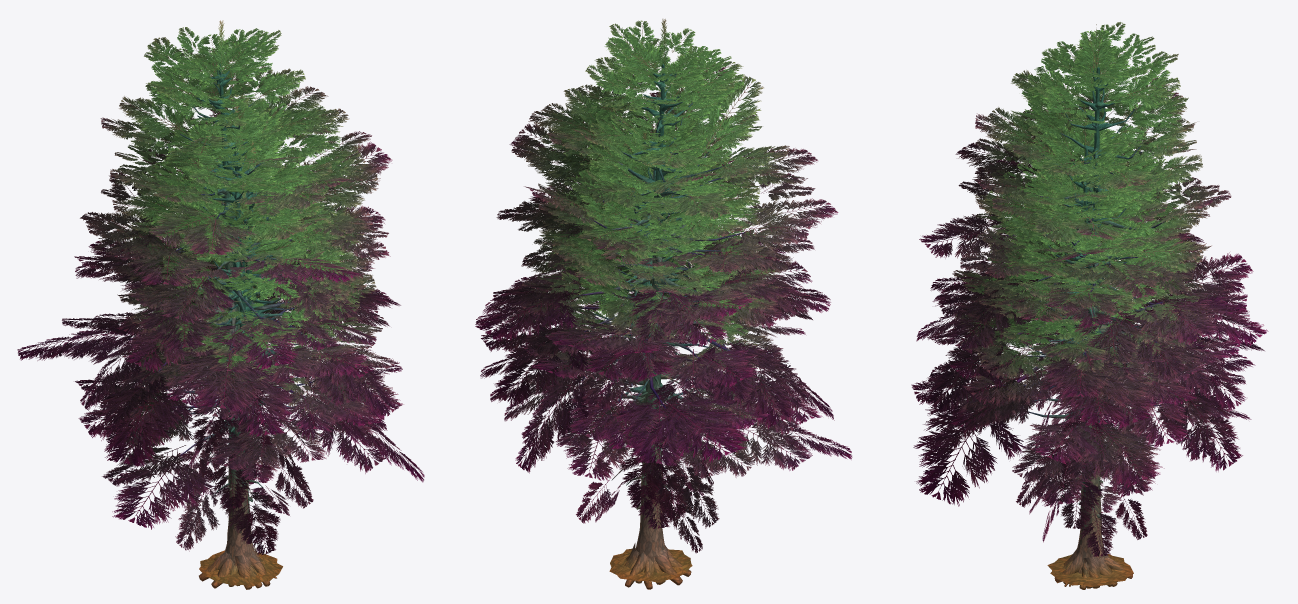
File: hero-pine-mid.glb
3 views of the same model, side by side, from view 1: azimuth 30°, elevation 25°; view 2: azimuth 150°, elevation 25°; view 3: azimuth 270°, elevation 25° (orthographic). The views are drawn at different scales.
Parts seen in each view (by area): view 1: v2-leaf, v1-leaf, v0-leaf, v3-leaf, v2-wood, v1-wood, v3-wood, v0-wood; view 2: v2-leaf, v1-leaf, v3-leaf, v0-leaf, v2-wood, v1-wood, v3-wood, v0-wood; view 3: v2-leaf, v3-leaf, v1-leaf, v0-leaf, v2-wood, v1-wood, v3-wood, v0-wood.
Boxes of the visible parts, x1,y1,x2,y2 form: v2-leaf: (17,20,424,508); v1-leaf: (62,94,390,497); v0-leaf: (102,181,402,551); v3-leaf: (75,141,403,555); v2-wood: (128,64,320,588); v1-wood: (177,145,301,589); v3-wood: (166,186,313,586); v0-wood: (180,226,311,586); v2-leaf: (475,19,838,508); v1-leaf: (481,90,830,523); v3-leaf: (480,132,822,528); v0-leaf: (502,161,852,553); v2-wood: (575,64,745,587); v1-wood: (593,139,708,589); v3-wood: (583,183,735,584); v0-wood: (602,216,741,583); v2-leaf: (913,22,1268,506); v3-leaf: (911,157,1255,542); v1-leaf: (930,104,1253,539); v0-leaf: (949,184,1251,556); v2-wood: (1004,67,1163,588); v1-wood: (1026,148,1165,588); v3-wood: (1002,201,1146,589); v0-wood: (1026,229,1161,583).
Size of the model in its own units: 16.52 by 25.07 by 16.58.
2 materials, 2 textured.
